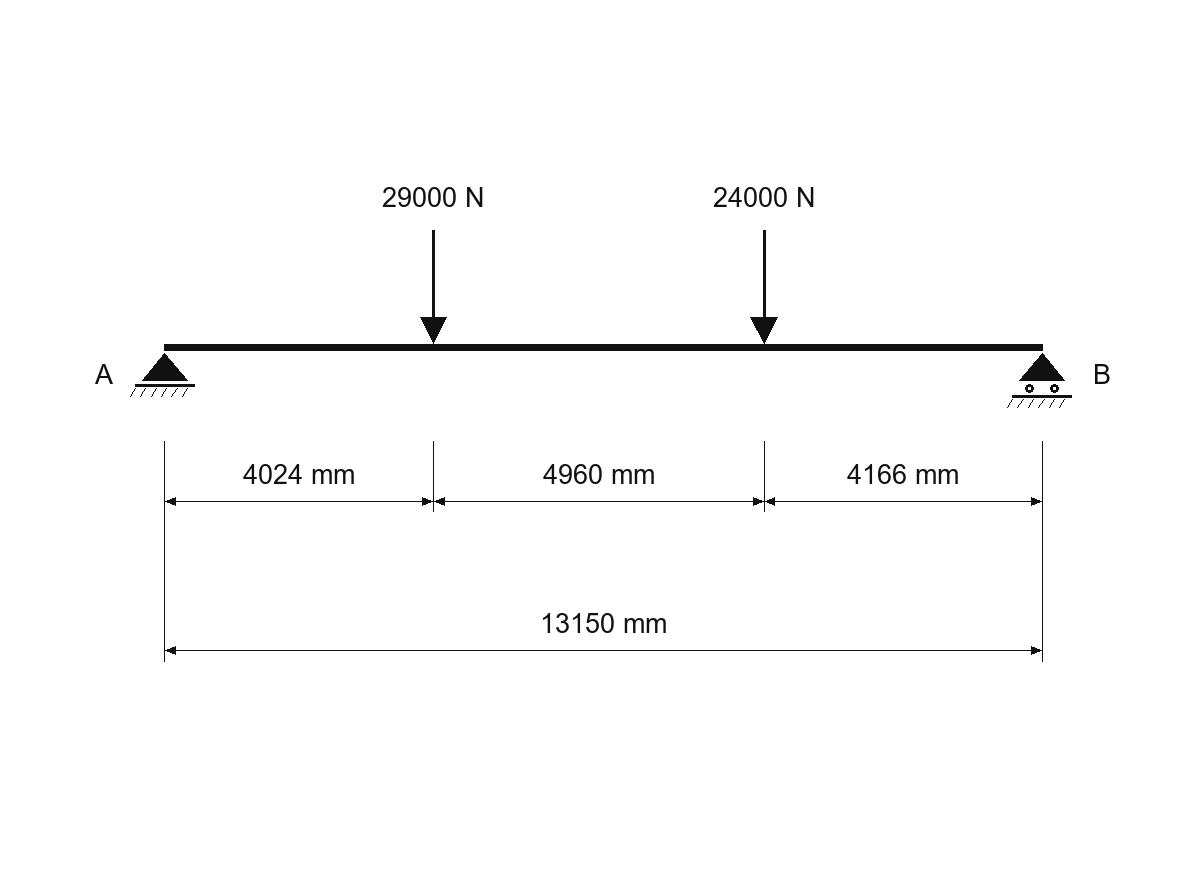pin_support: (130, 353, 195, 397)
point_load: (750, 230, 778, 344), (420, 230, 447, 344)
roller_support: (1007, 353, 1072, 408)
